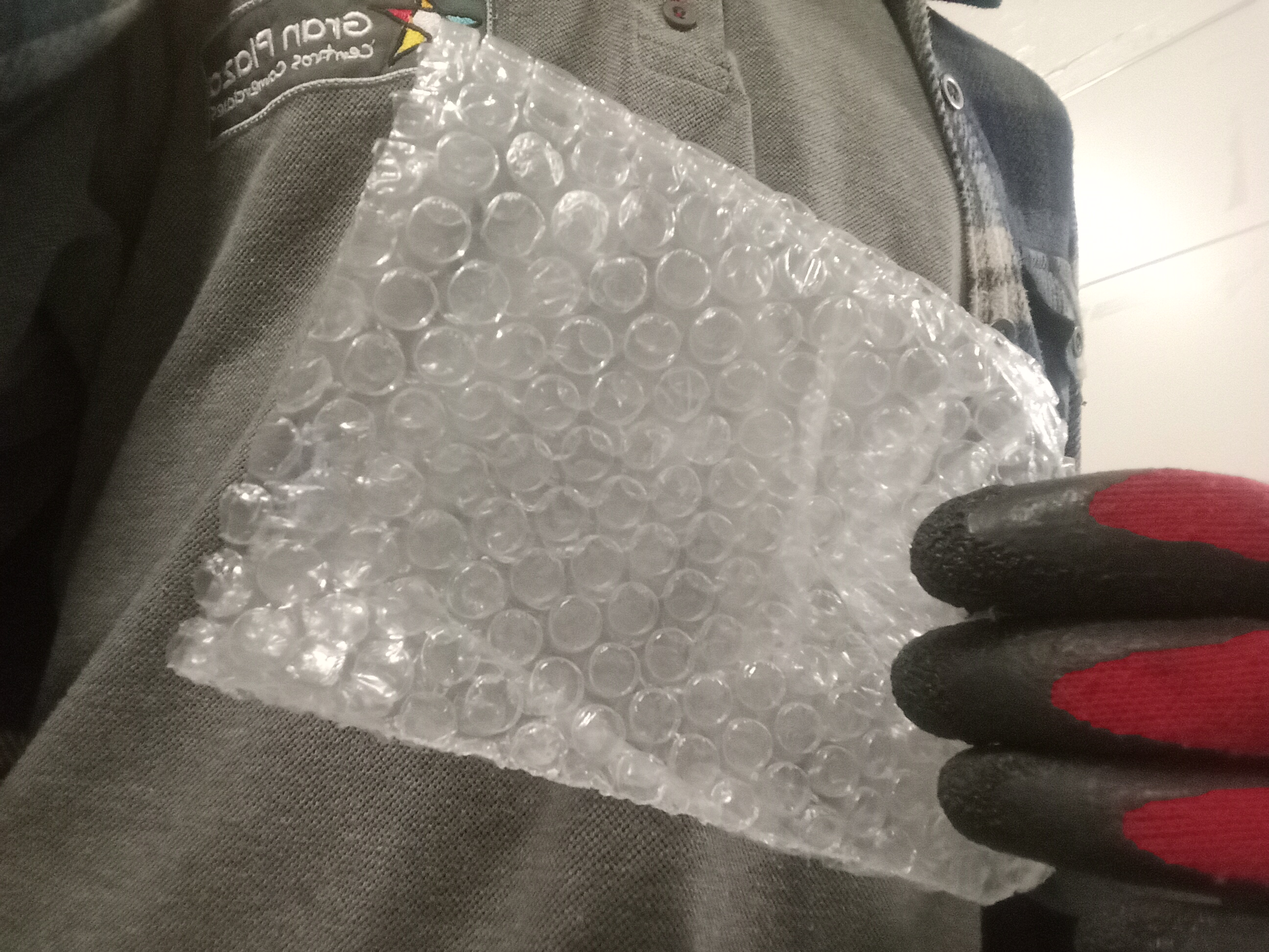Plastico: (162, 27, 1075, 903)
